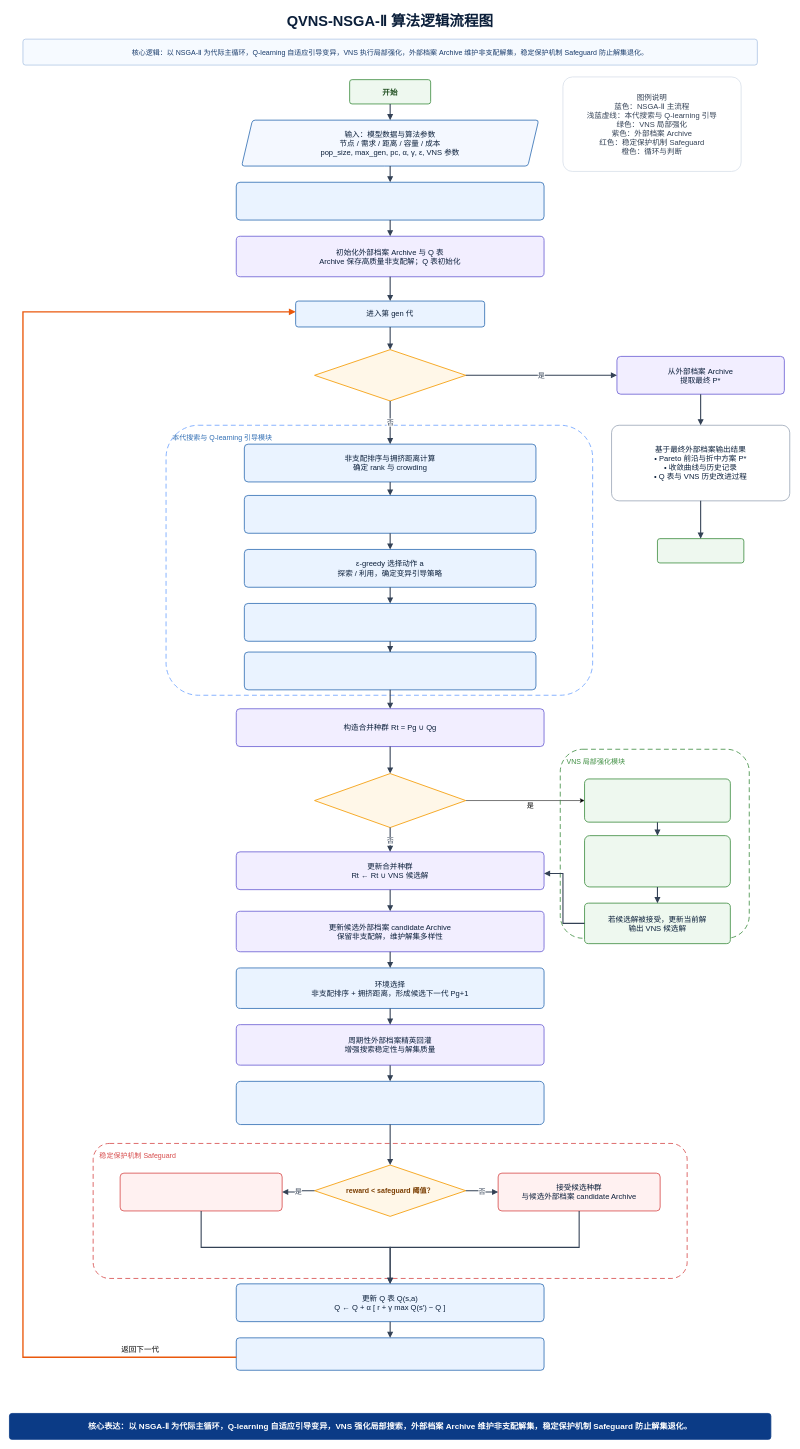
The diagram is 800 pixels wide and 1449 high, and some of its shapes have lost their labels. Each missing label, with the centre of its shape:
"Q 动作引导部分子代变异 生成并评价子代 Qg" belongs at (x=390, y=670).
"ε 衰减，gen = gen + 1" belongs at (x=390, y=1353).
"从外部档案 Archive 选择精英解 边界解 / 稀疏解 / 混合策略" belongs at (x=657, y=800).
"依次执行 N1—N5 邻域扰动 开启 / 关闭 / 交换 / 重分配 / 覆盖强化" belongs at (x=657, y=861).
"初始化种群 P0 编码、约束修复，计算 F(x) 与 CV(x)" belongs at (x=390, y=201).
"回滚至动作前 种群与外部档案 Archive" belongs at (x=201, y=1192).
"是否达到 最大迭代代数？" belongs at (x=390, y=375).
"构造 Q-learning 状态 s 搜索进度 / 可行率 / 非支配比例" belongs at (x=390, y=514).
"结束" belongs at (x=700, y=550).
"触发 VNS？ 基于停滞状态 / 触发间隔 / 最小代距" belongs at (x=390, y=800).
"计算奖励值 reward 基于 HV、可行率、非支配比例、多样性、成本、服务比例与 CV 变化" belongs at (x=390, y=1103).
"锦标赛选择与交叉 生成基础子代" belongs at (x=390, y=622).
